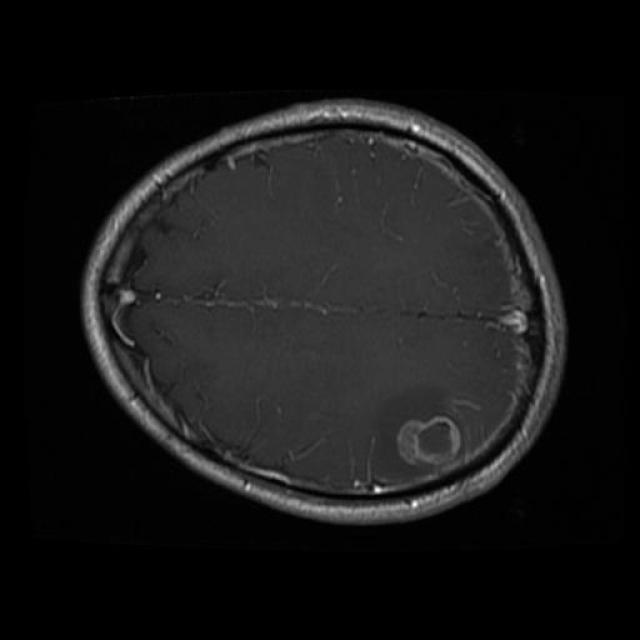Glioma: (370, 385, 479, 484)
